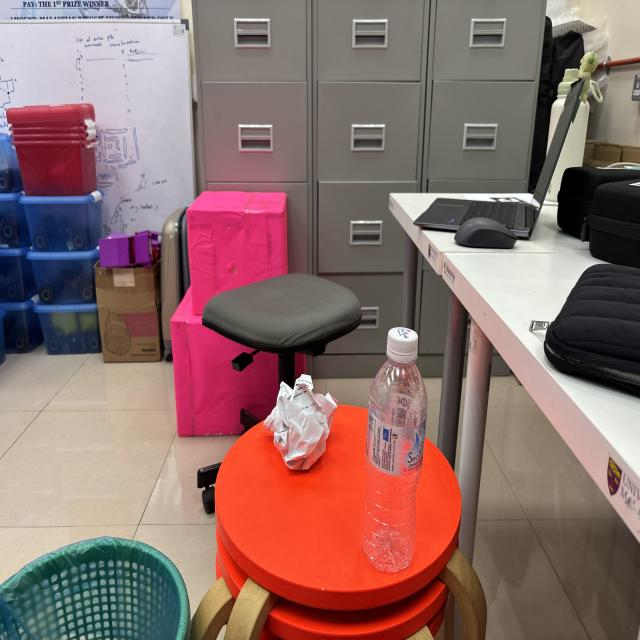crumpled_paper: (257, 367, 342, 483)
plastic_bottle: (357, 324, 432, 579)
